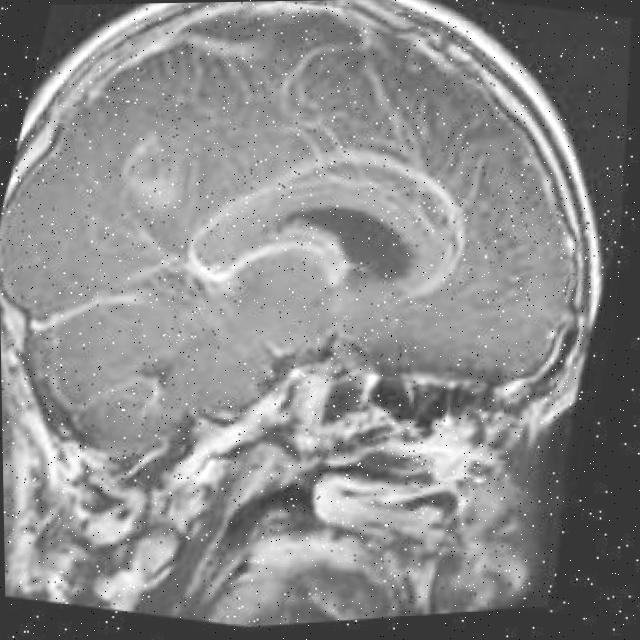LMCI: (195, 173, 428, 364)
